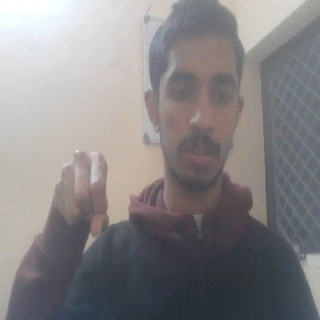Face: (143, 2, 245, 191)
Yes: (50, 150, 114, 243)
